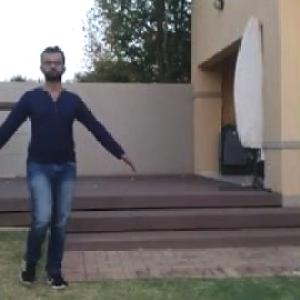land: (0, 53, 129, 284)
